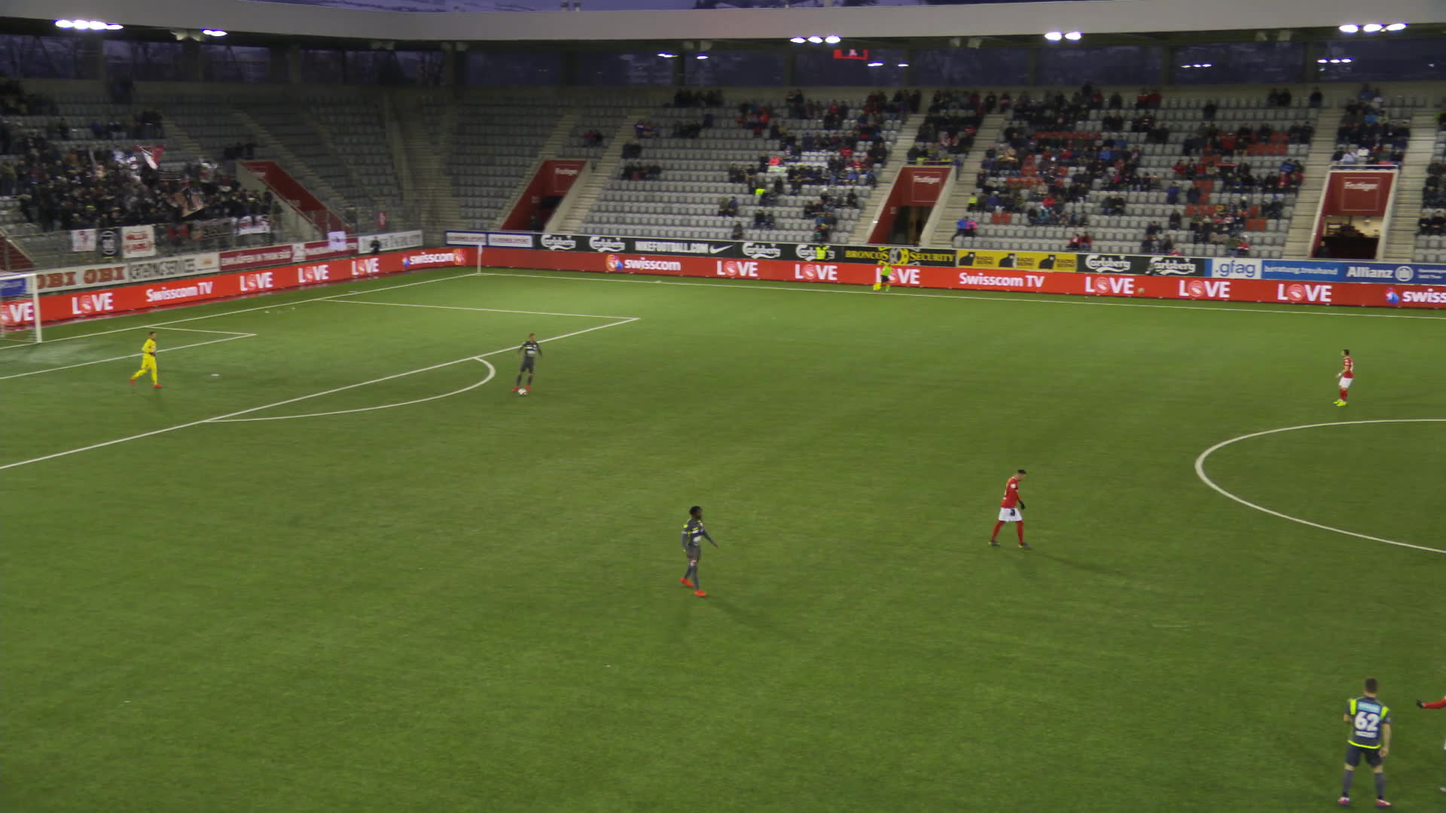ball: (518, 388, 525, 394)
player: (1337, 676, 1393, 809), (988, 467, 1033, 550), (678, 505, 718, 597), (514, 333, 546, 393), (130, 329, 161, 389), (1332, 348, 1357, 406)
referee: (873, 262, 892, 292)
